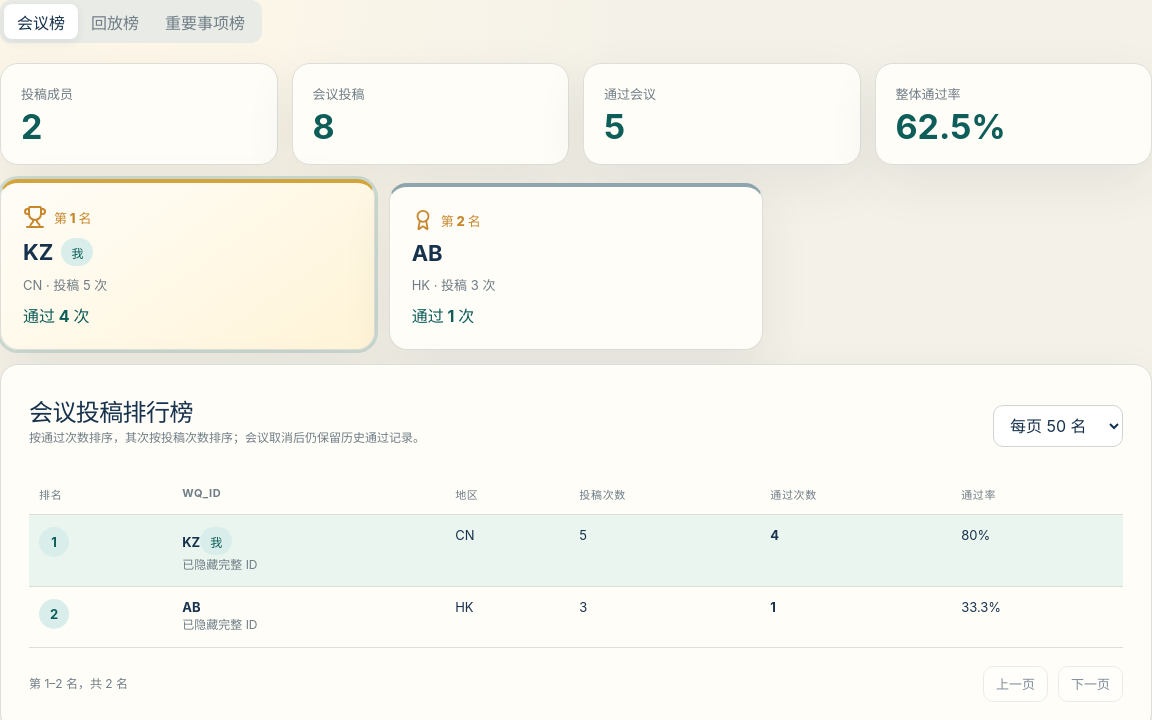
Scenario: LeaderboardPanel › loads the important item contribution ranking as a third category
Click the button "重要事项榜".
click(205, 22)  # box [152,4,258,39]
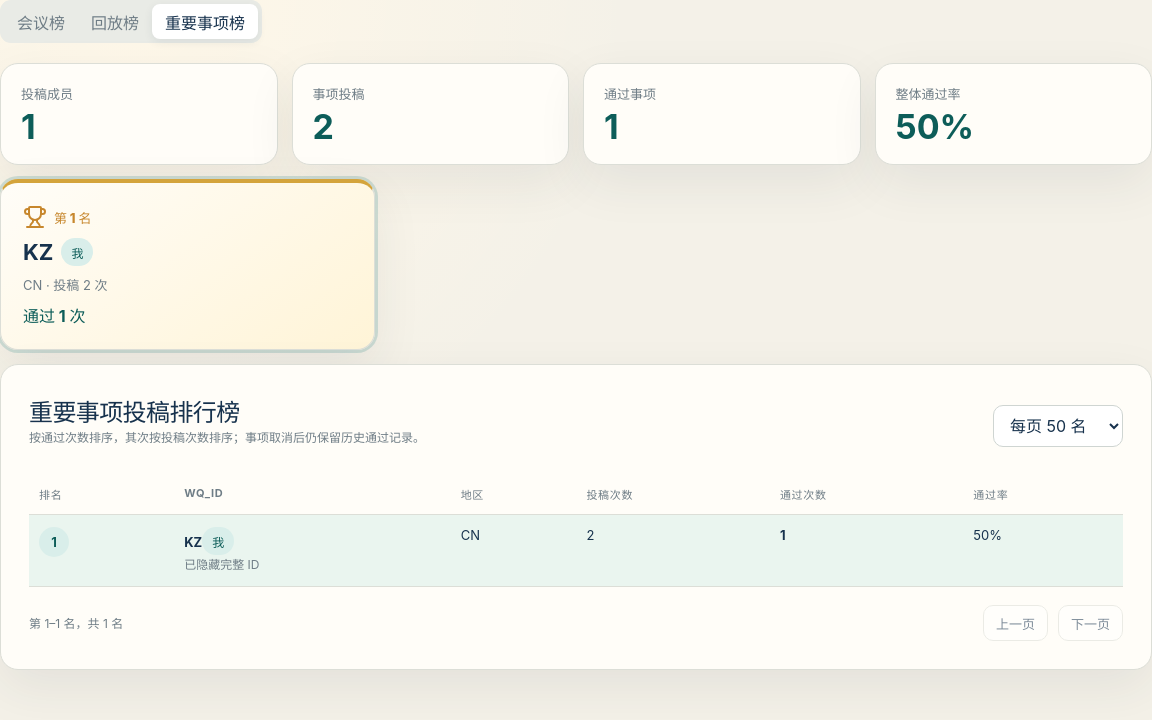
Now the text "重要事项投稿排行榜" is shown, box [29,398,240,427]
Now the text "通过事项" is shown, box [604,86,656,102]
